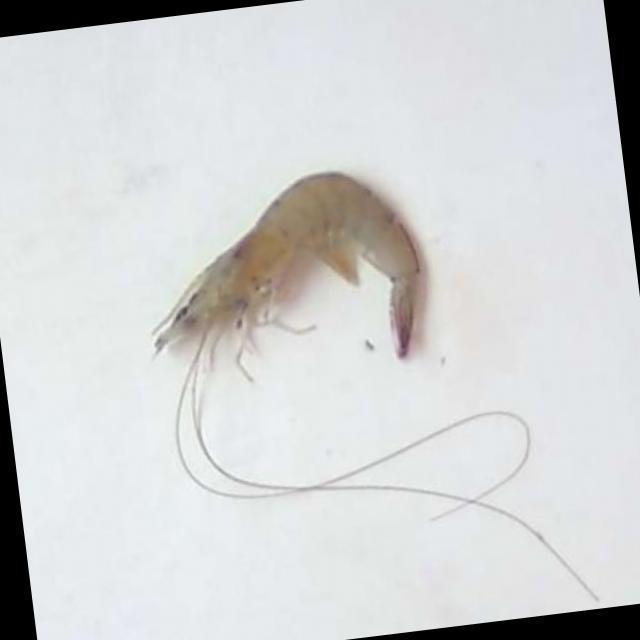shrimp: (152, 172, 421, 357)
